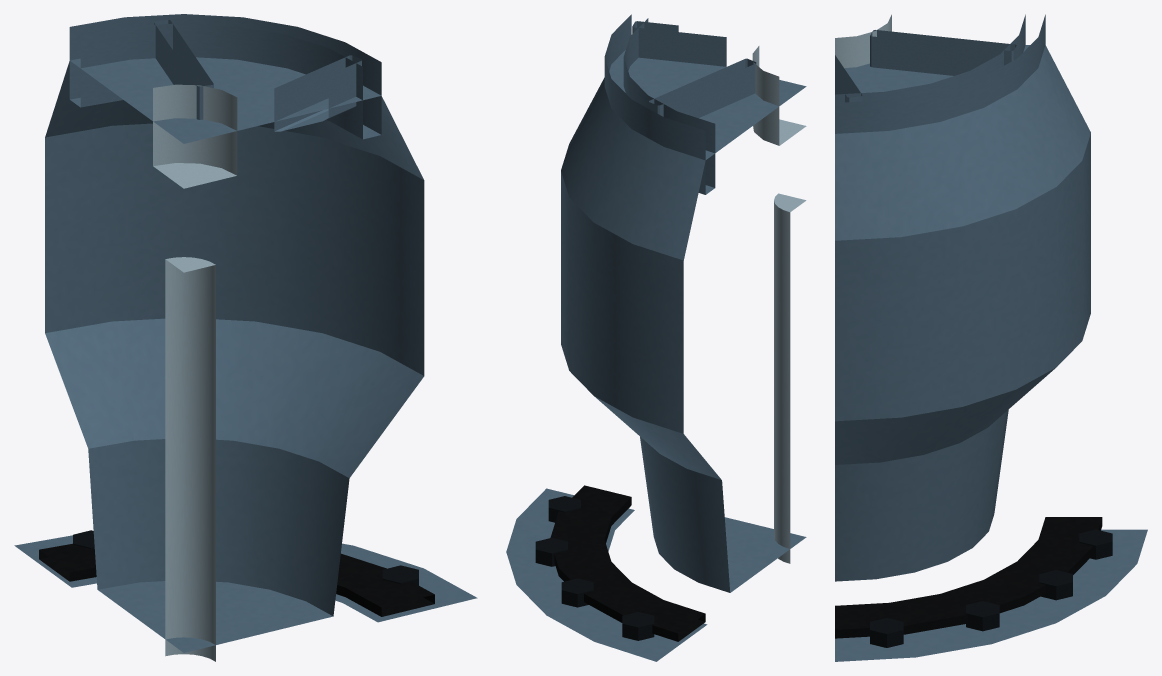
File: cell_13.obj
The picture shows the model from 3 angles, left to right: view 1: azimuth 30°, elevation 25°; view 2: azimuth 150°, elevation 25°; view 3: azimuth 270°, elevation 25°; orthographic projection. The views are drawn at different scales.
Parts seen in each view (by area): view 1: cell_13; view 2: cell_13; view 3: cell_13.
Part boxes in pixels (x1=…): cell_13: x1=14, y1=14, x2=477, y2=661; cell_13: x1=506, y1=14, x2=806, y2=661; cell_13: x1=835, y1=14, x2=1147, y2=661.
Size of the model in its own units: 0.55 by 1 by 0.55.
